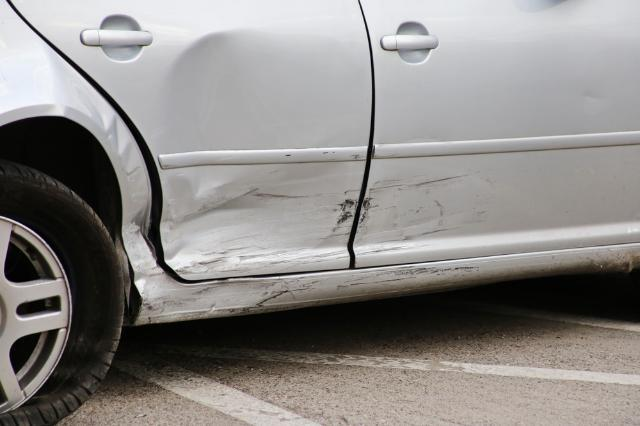dent: (153, 26, 352, 277), (61, 68, 154, 286)
dislocated part: (2, 0, 176, 271)
scratch: (134, 268, 490, 320), (356, 171, 496, 256)
